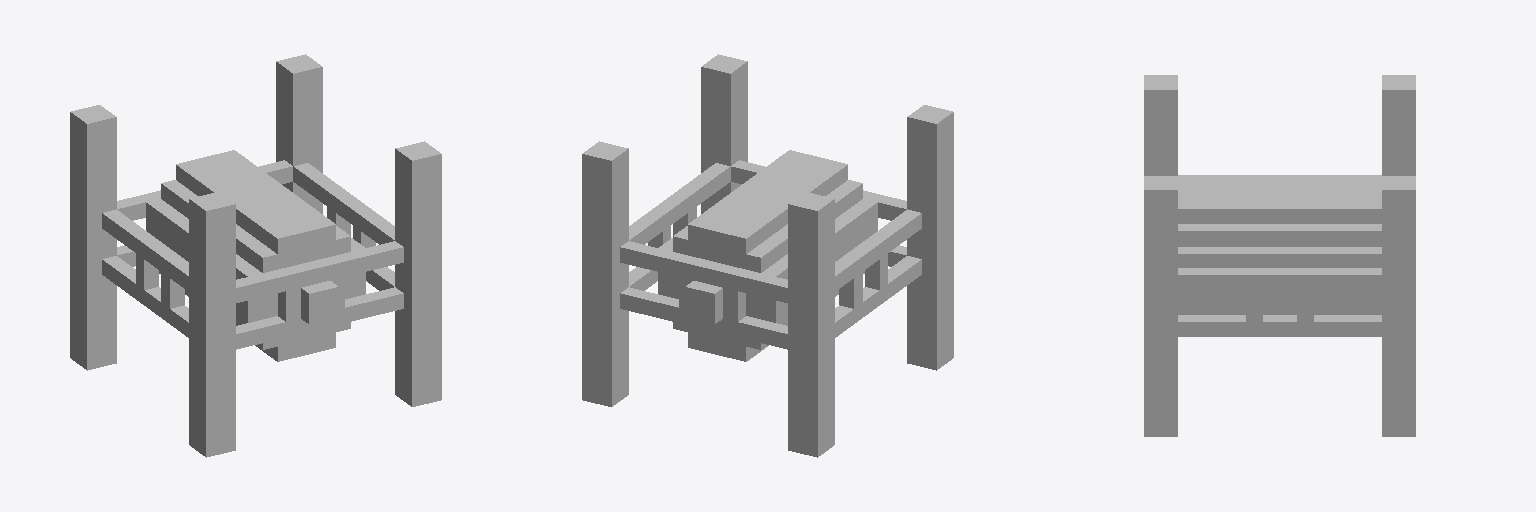
Rendered from power_generators_shaft_gearbox.obj.
3 views of the same model, side by side, from view 1: azimuth 30°, elevation 25°; view 2: azimuth 150°, elevation 25°; view 3: azimuth 270°, elevation 25° (orthographic).
Parts seen in each view (by area): view 1: node_0_0_0; view 2: node_0_0_0; view 3: node_0_0_0.
Part boxes in pixels (bbox=[...]): node_0_0_0: bbox=[70, 54, 441, 457]; node_0_0_0: bbox=[582, 54, 953, 457]; node_0_0_0: bbox=[1144, 75, 1415, 436].
Size of the model in its own units: 1 by 1 by 1.